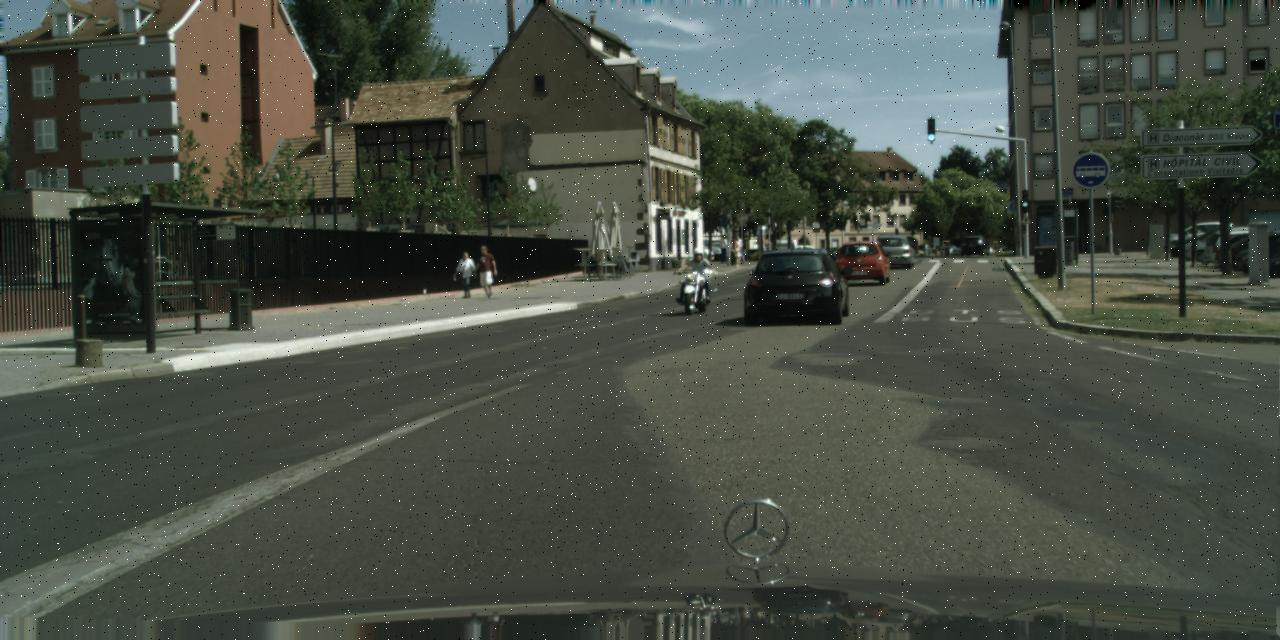ped: (686, 246, 708, 302), (475, 245, 496, 298), (456, 252, 475, 298), (731, 236, 743, 267), (719, 234, 730, 262)
